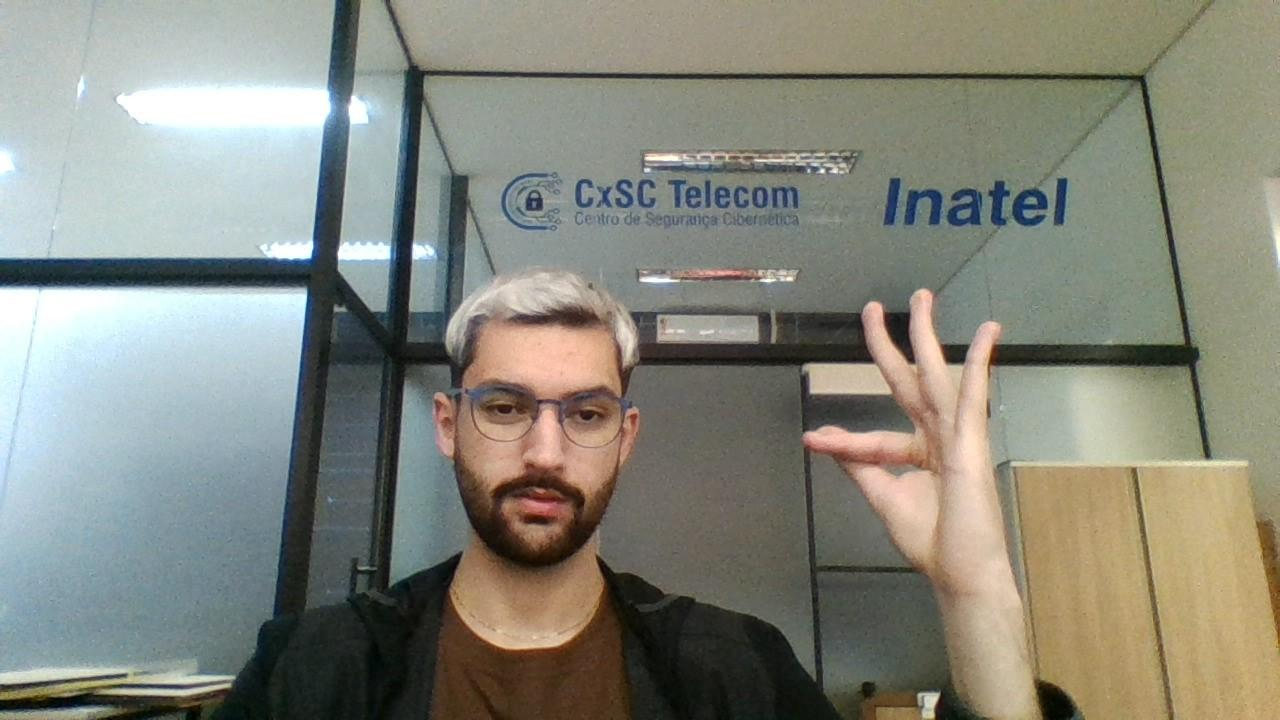F: (786, 282, 1026, 604)
